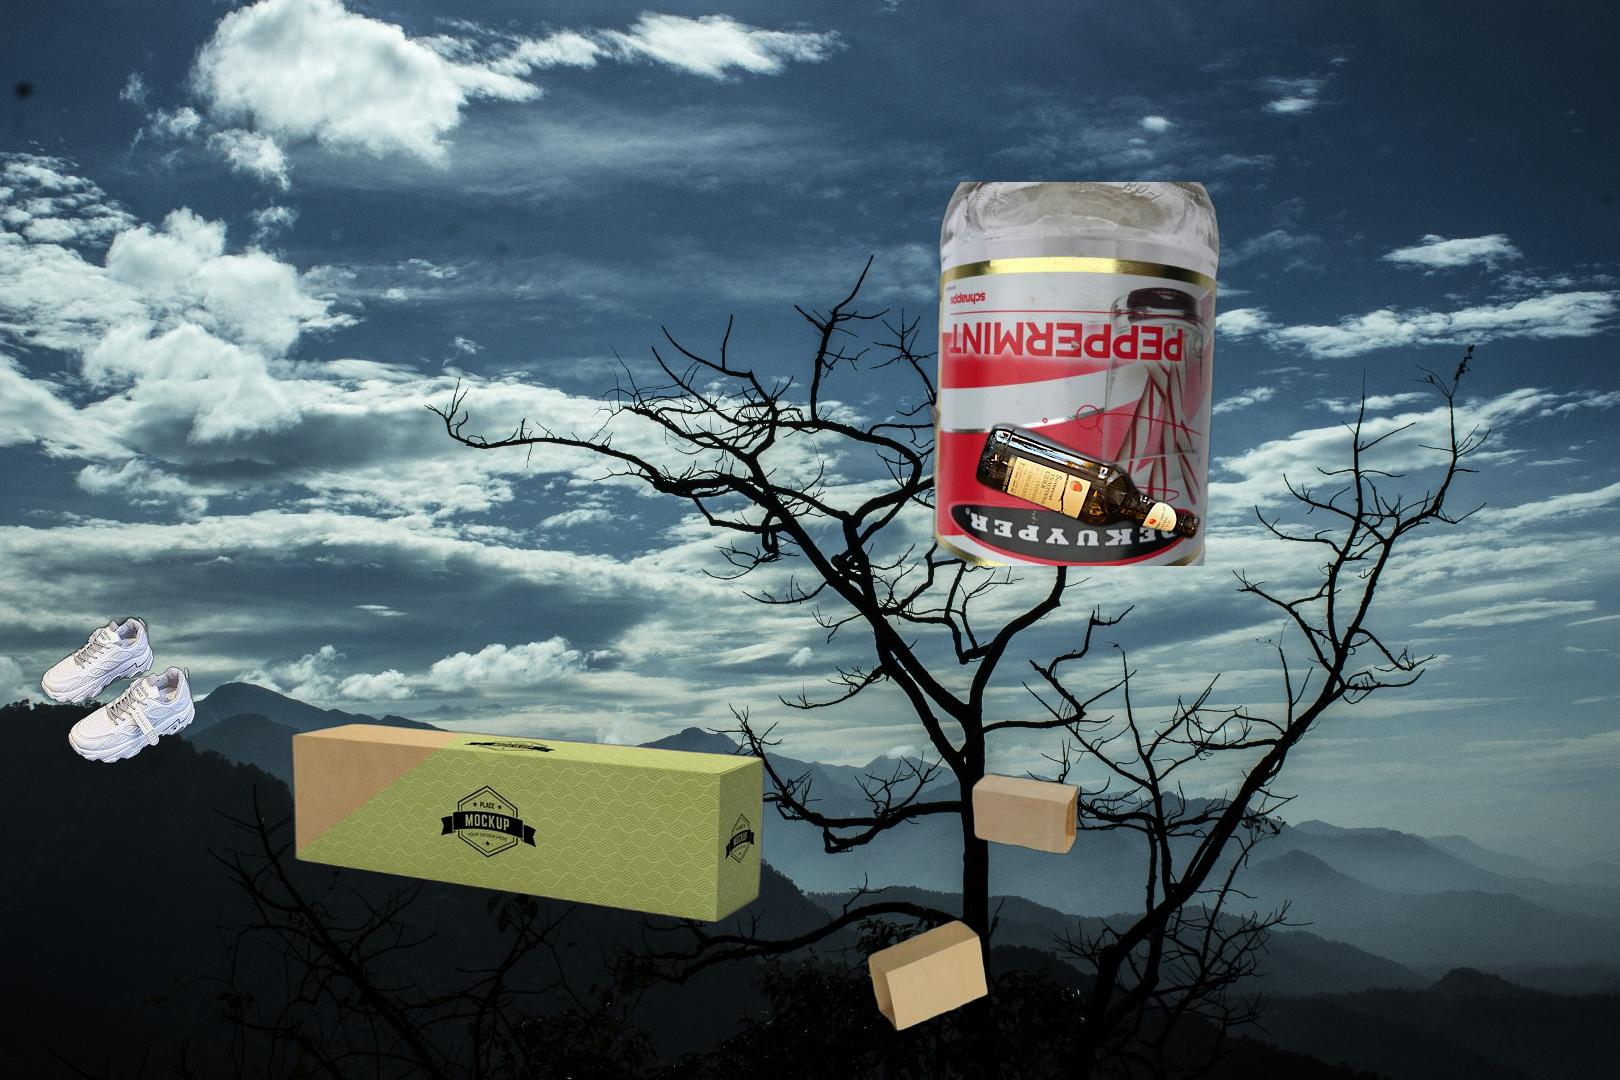glass: (923, 182, 1223, 567), (972, 417, 1205, 544)
paper-bag: (864, 771, 1081, 1034)
shoes: (39, 614, 198, 765)
trashbox-cardboard: (284, 721, 769, 925)
